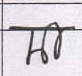i_matra: (49, 22, 62, 57)
